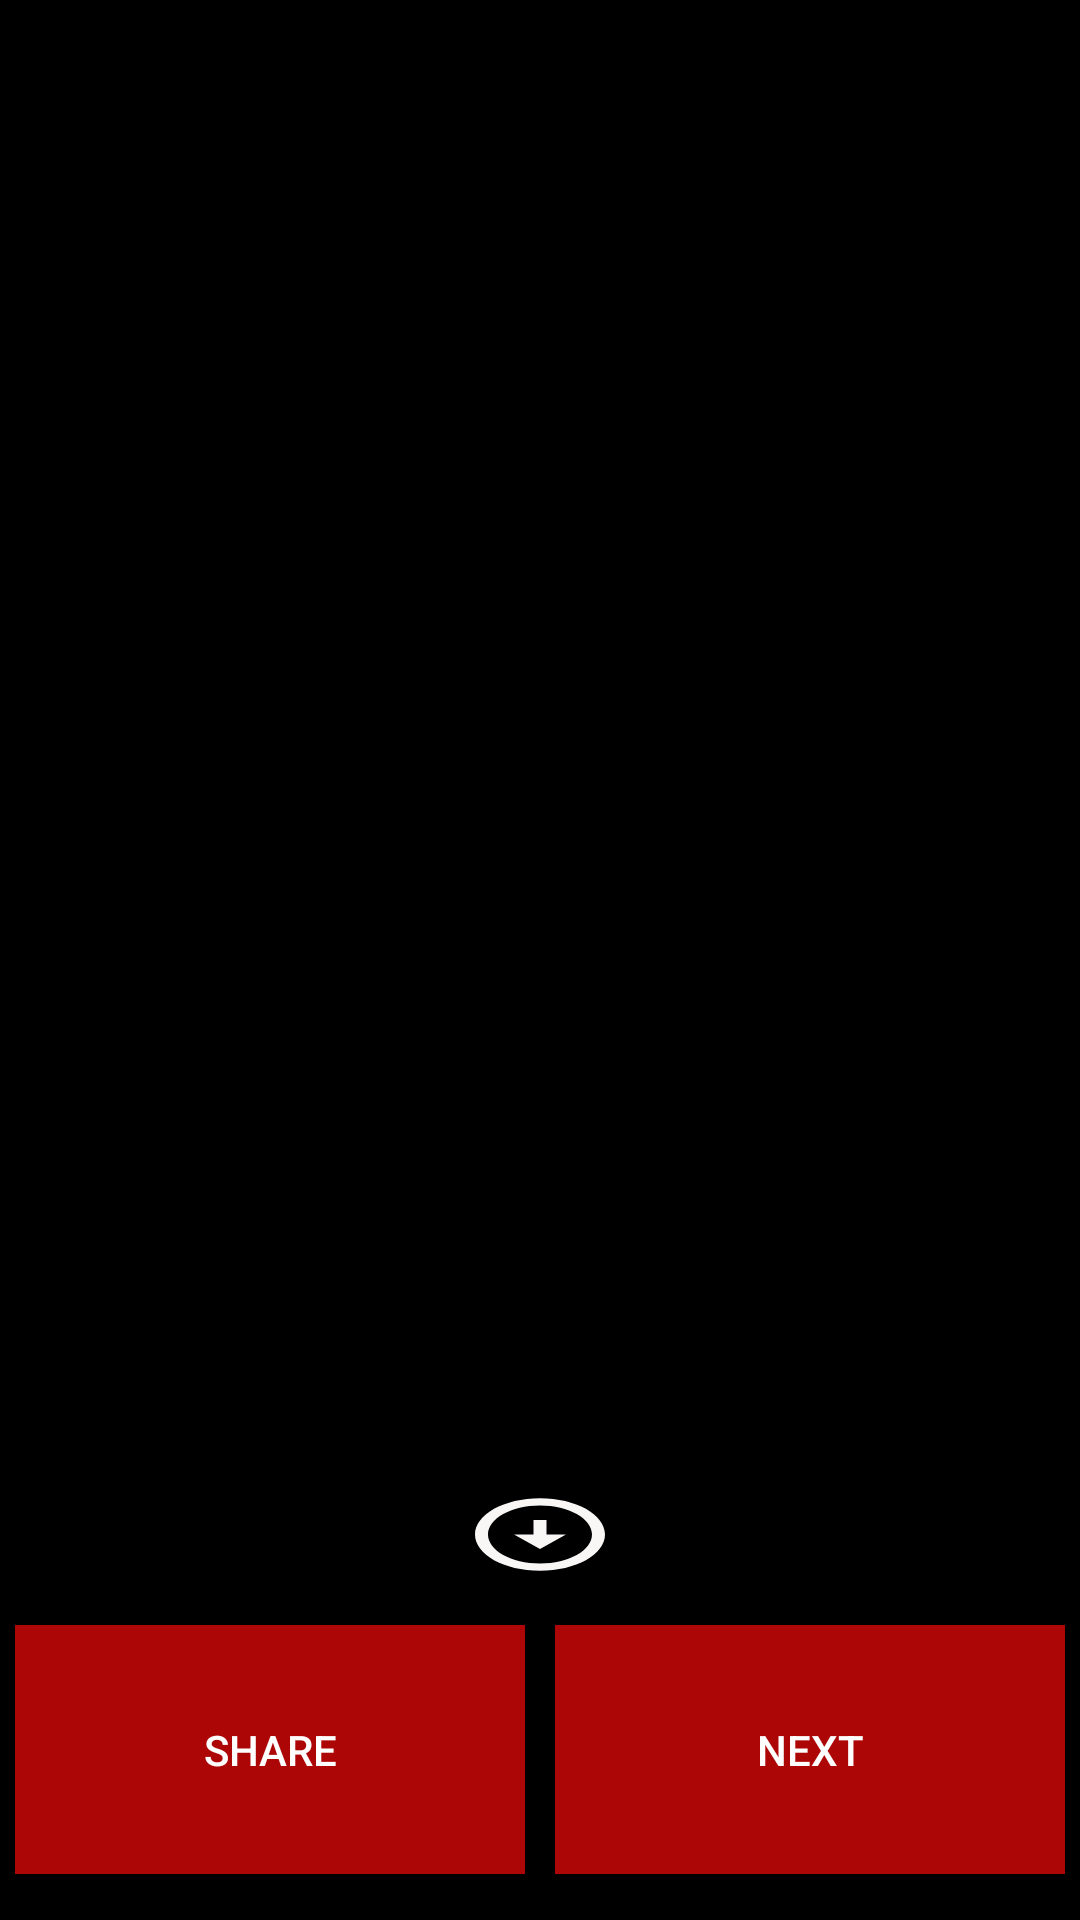

Icons on this 1080×1920 Android screen, each with its box as (x1, y1, x2, y2):
download: (475, 1498, 605, 1571)
